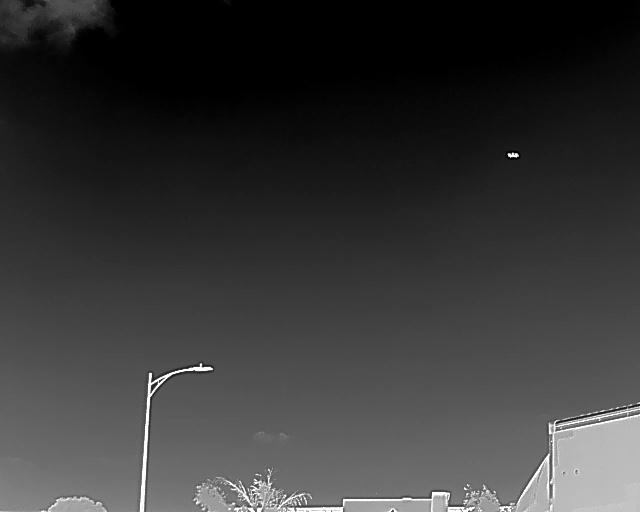fpv-drone: (506, 152, 519, 158)
